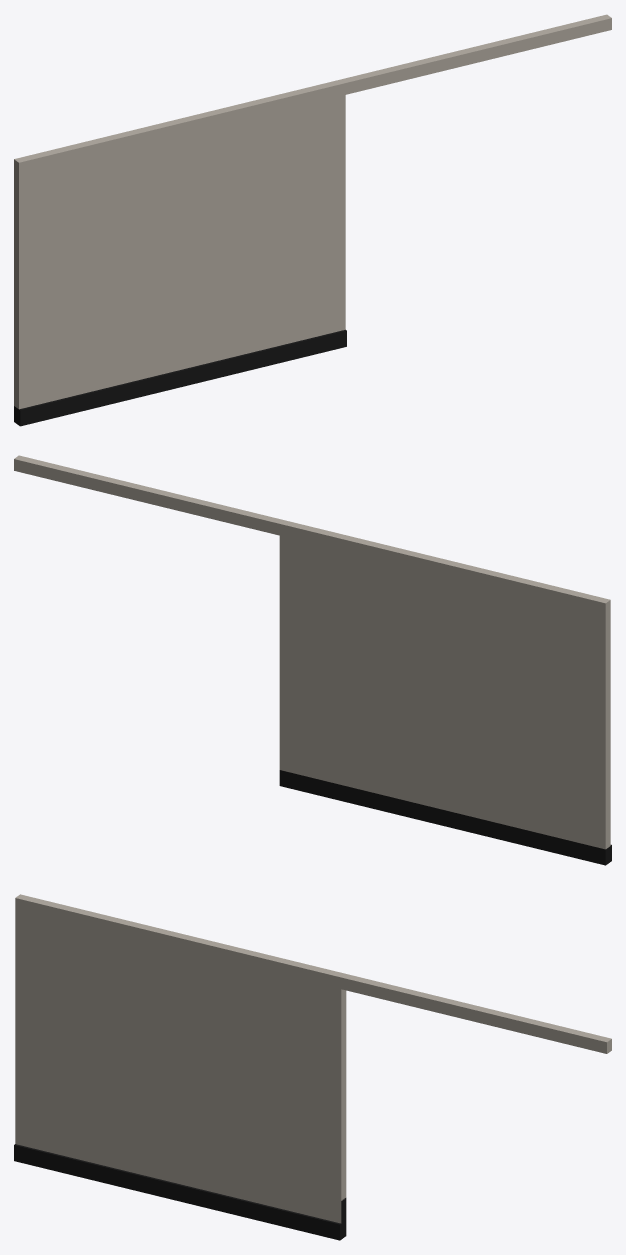
The model's file is Wall 2.FBX.
3 views of the same model, one above another, from view 1: azimuth 30°, elevation 25°; view 2: azimuth 150°, elevation 25°; view 3: azimuth 330°, elevation 25° (orthographic).
Visible parts, largest first — view 1: Wall 2; view 2: Wall 2; view 3: Wall 2.
Part boxes in pixels (x1,y1,x2,y2): Wall 2: (14,14,611,426); Wall 2: (14,455,611,865); Wall 2: (14,894,611,1240).
Size of the model in its own units: 7086 by 3000 by 129.
Materials: 1 (1 with a texture image).
